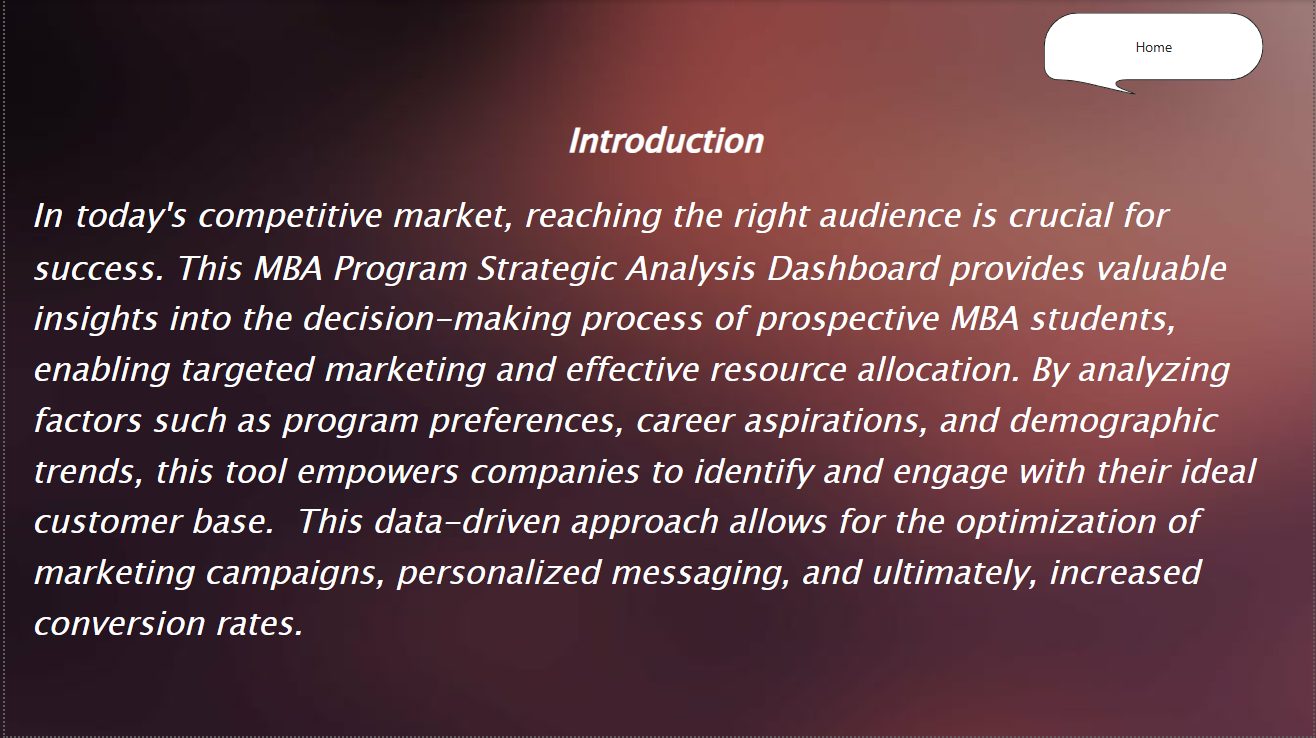

The page's visual inventory and layout, read from the dashboard file:
{"tool":"powerbi","page":{"name":"Introduction","canvas":[1280,720],"ordinal":1},"visuals":[{"type":"textbox","box":[20.4,109.3,1259.6,593.3],"z":0},{"type":"pageNavigator","title":"Page Navigator","box":[1015.8,12.1,216,85.7],"z":1000}]}

Visuals, with their boxes in screenshot pixels (x1, y1, x2, y2), scaled from the page's 1280x720 canvas onto the 1316x738 screenshot:
textbox: bbox=(21, 112, 1315, 720)
"Page Navigator" pageNavigator: bbox=(1044, 12, 1266, 100)
